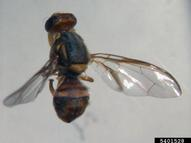Fruit fly: (12, 10, 149, 131)
